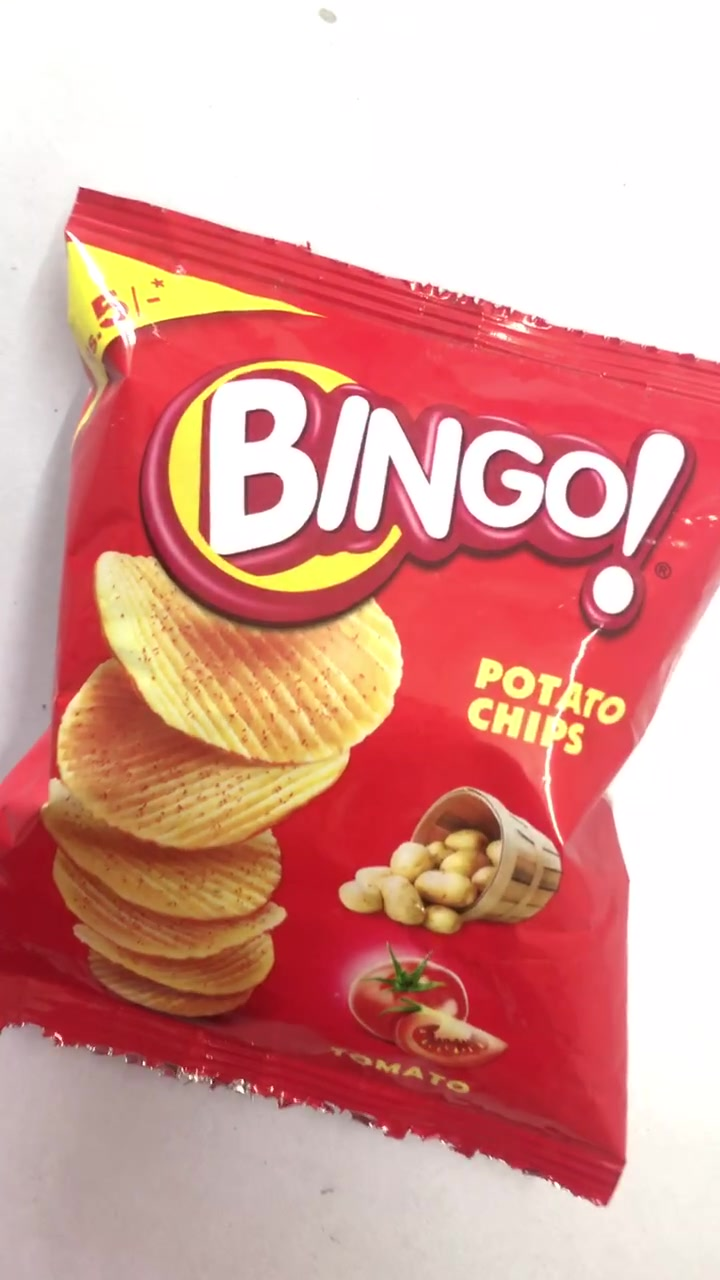Bingo: (9, 195, 720, 1192)
